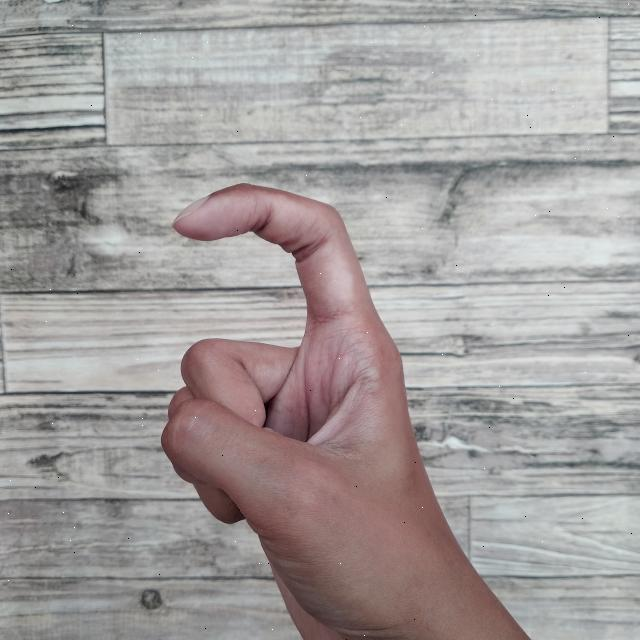X: (165, 179, 536, 640)
